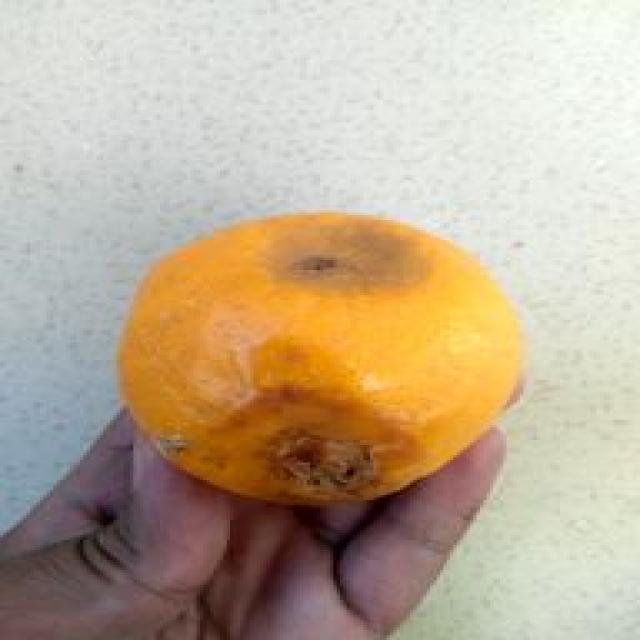Bad_Orange: (118, 212, 523, 503)
